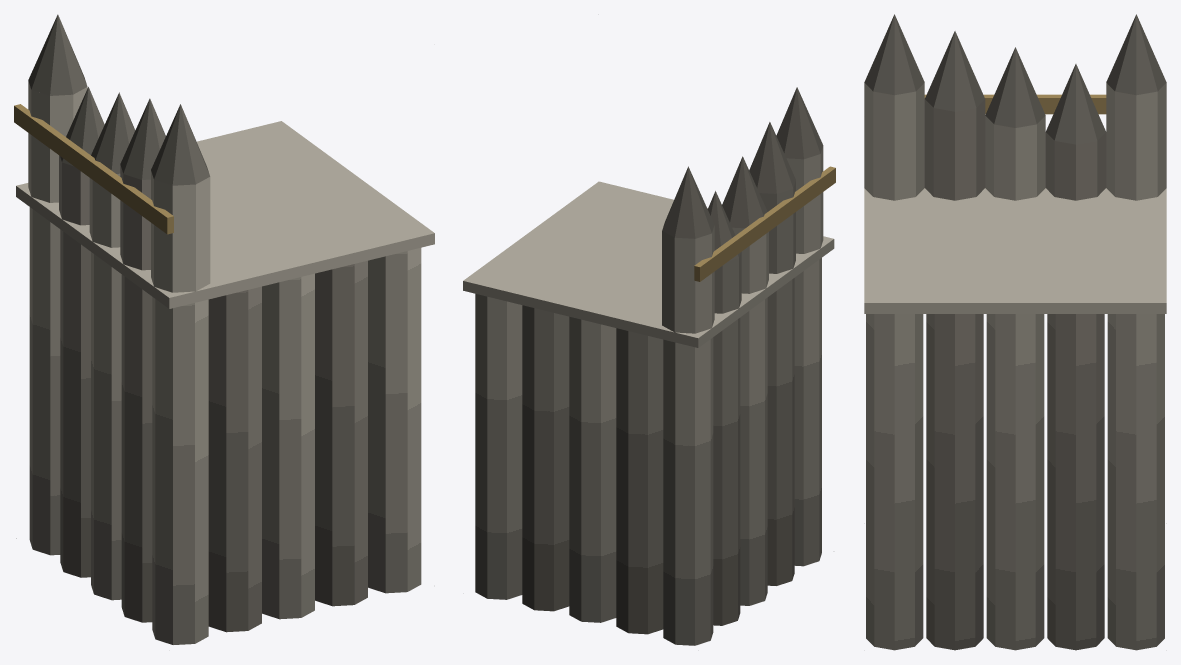
The model's file is perimeter_wall_stone_f7.glb.
3 views of the same model, side by side, from view 1: azimuth 30°, elevation 25°; view 2: azimuth 150°, elevation 25°; view 3: azimuth 270°, elevation 25° (orthographic). The views are drawn at different scales.
Size of the model in its own units: 2.01 by 3.9 by 2.
Materials: 1 (1 with a texture image).
